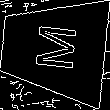M_W: (28, 24, 79, 75)
